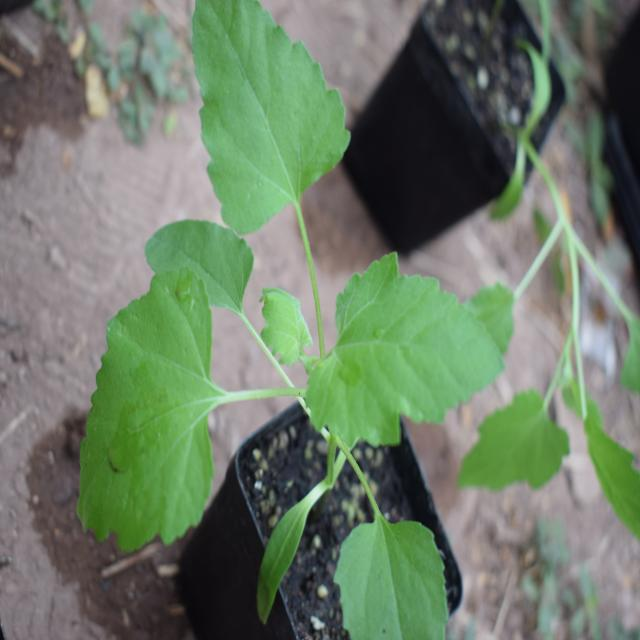cocklebur: (104, 26, 486, 593)
